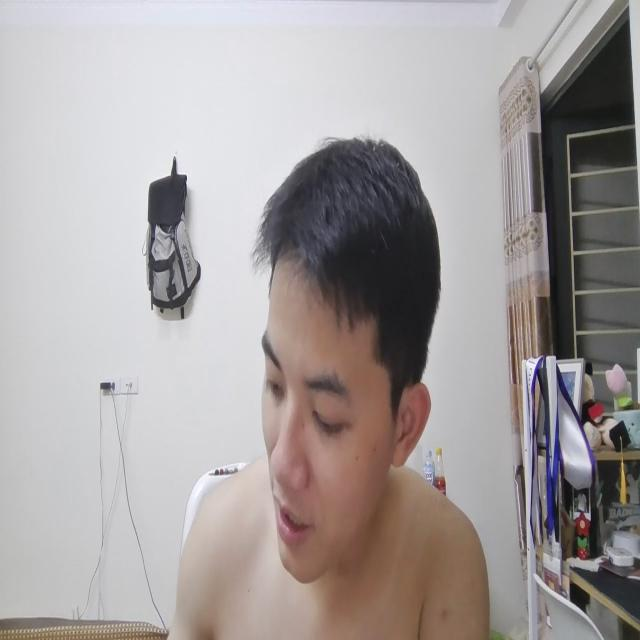student: (175, 129, 487, 640)
